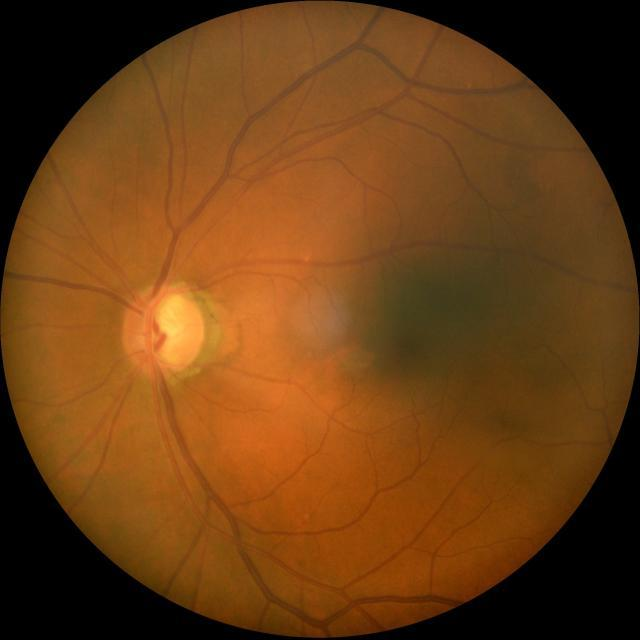OC: (144, 294, 196, 368)
OD: (120, 283, 203, 377)
